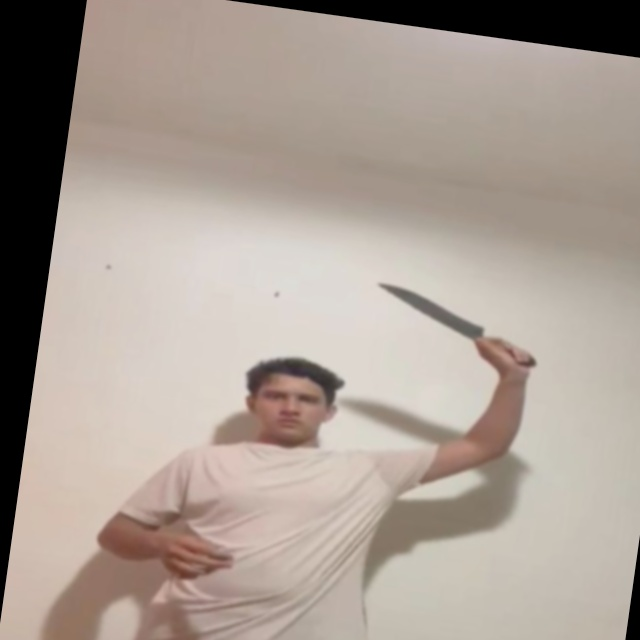Sharp-Object: (370, 281, 490, 335)
